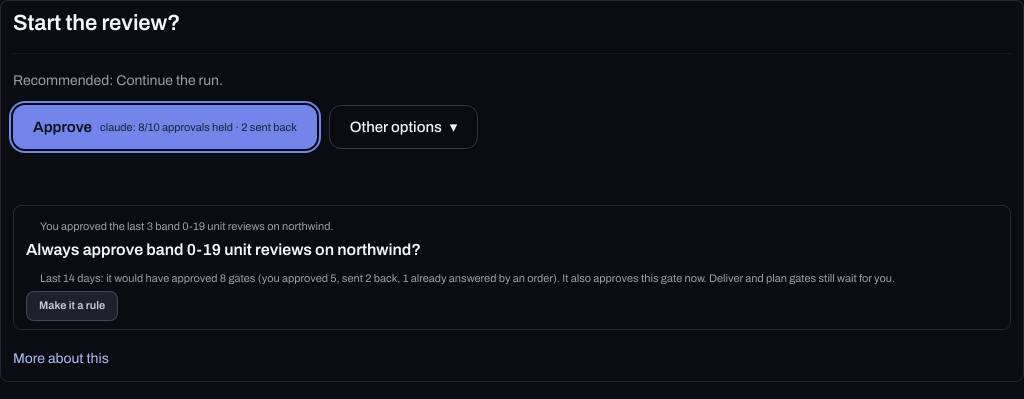
Test case: S16a-1b — GateRow renders the depth › the creator seat’s record rides Approve; the rule offer makes ONE standing order and sends no gate decision
expect the text with test id "session-gate-track-record" reads "claude: 8/10 approvals held · 2 sent back": met, box [100,121,297,133]
expect the text with test id "session-gate-rule-question" reads "Always approve band 0-19 unit reviews on northwind?": met, box [26,241,421,258]
Click the button with test id "session-gate-rule-make".
click(72, 306)  # box [26,291,118,321]
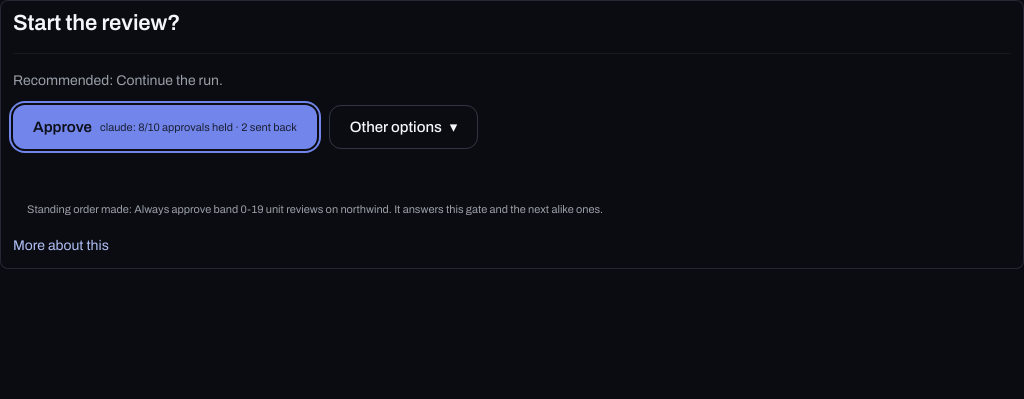
expect the text with test id "session-gate-rule-made" is shown: met, box [27,203,603,215]
